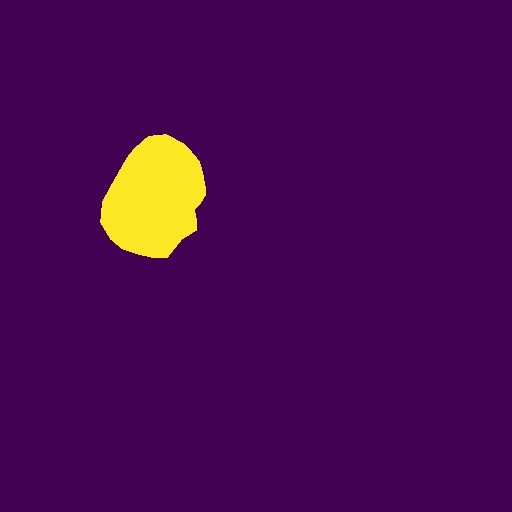Gliomia_tumour: (100, 134, 206, 258)
